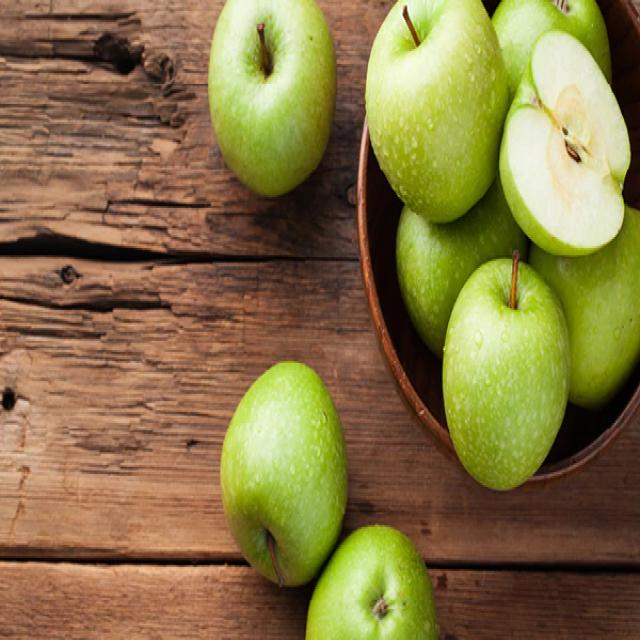Apple: (471, 206, 640, 485), (490, 0, 635, 263), (438, 241, 573, 494), (365, 0, 512, 226), (219, 361, 350, 589), (207, 0, 337, 201), (394, 186, 524, 357), (304, 525, 444, 640)
